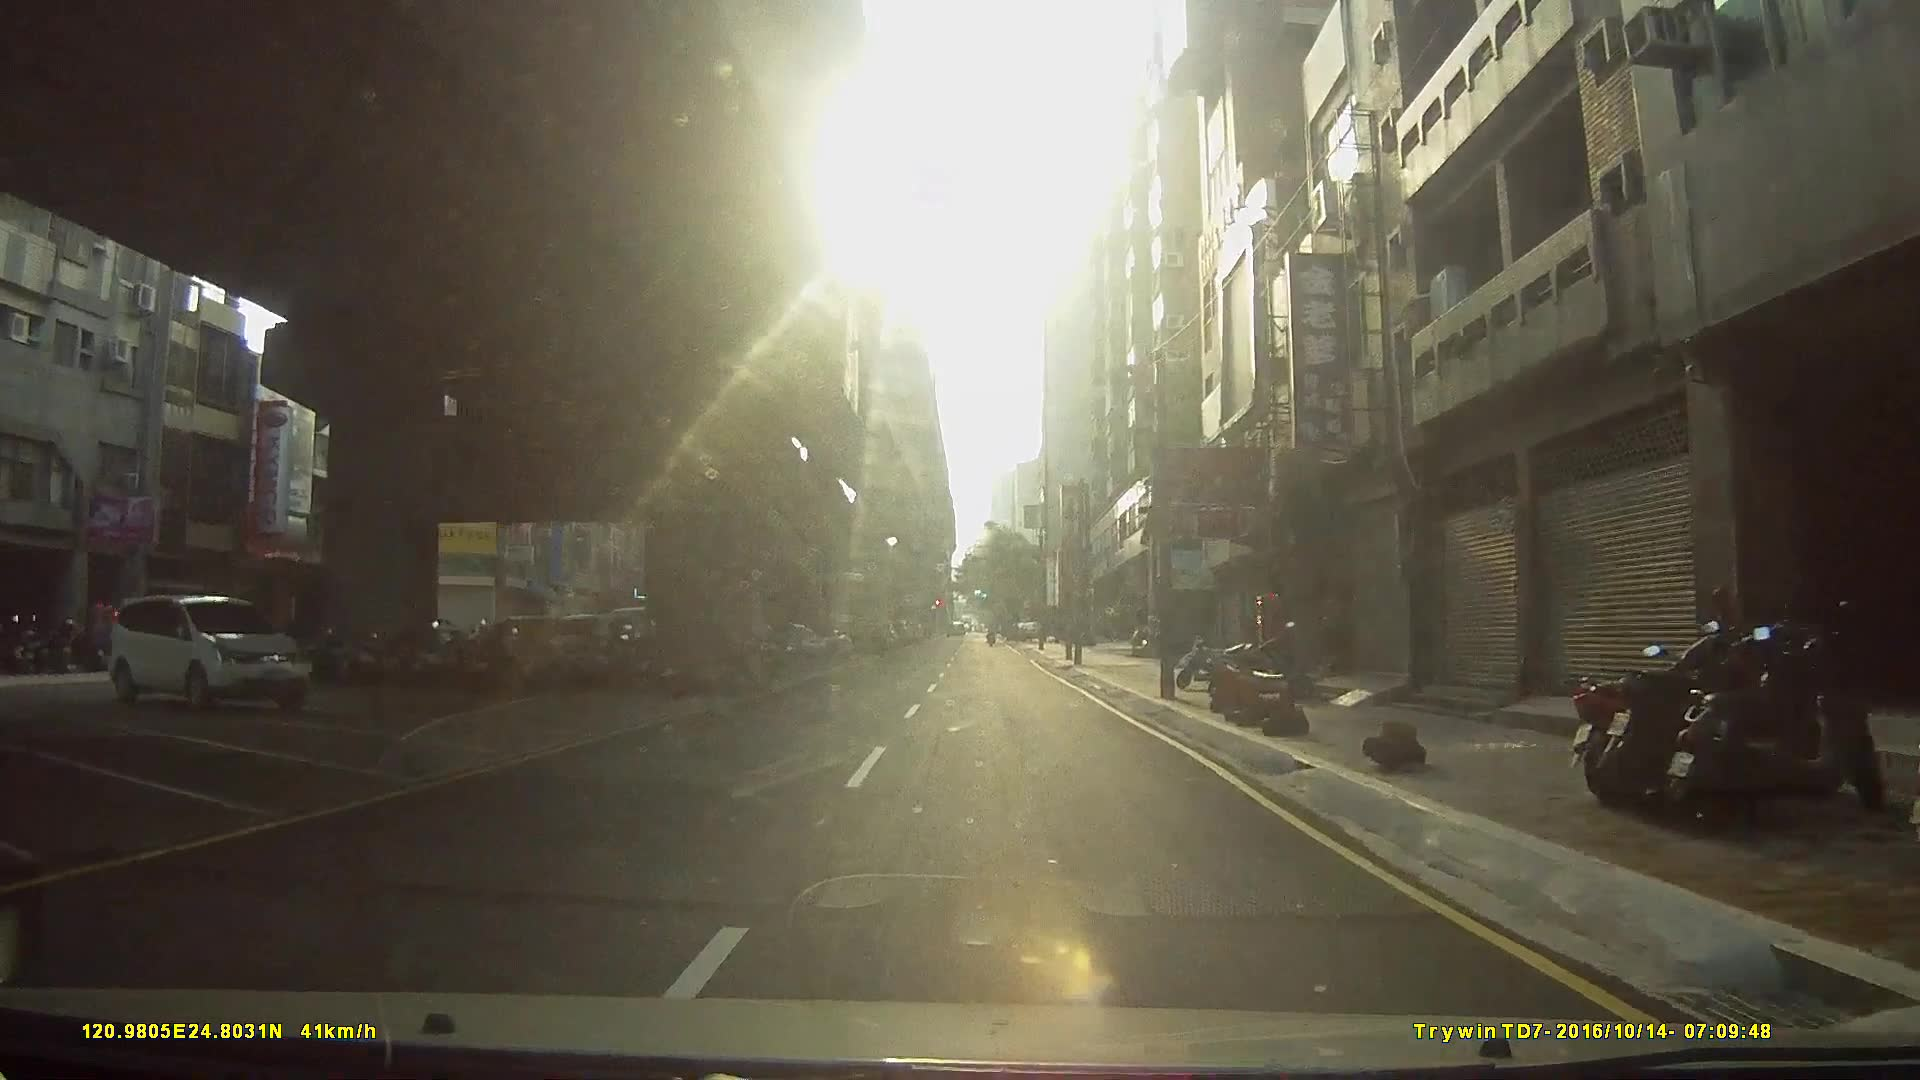vehicle: (105, 593, 311, 715)
